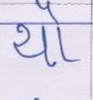ai_matra: (36, 0, 61, 22)
